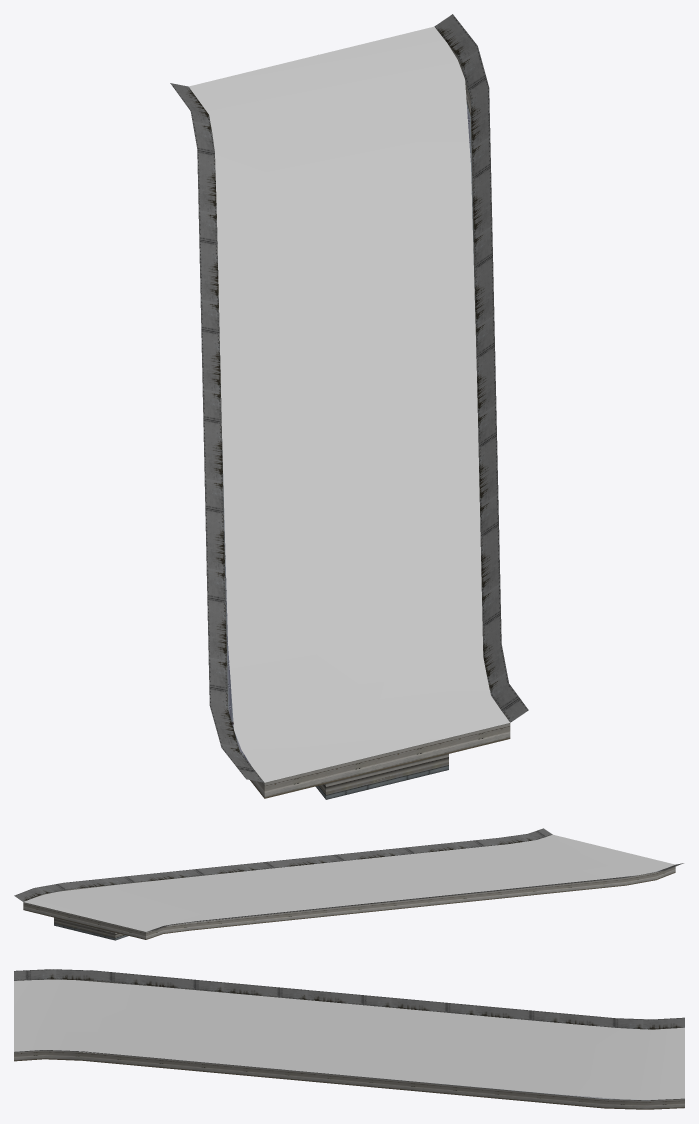
File: ShearSlopeA_R.fbx
3 views of the same model, one above another, from view 1: azimuth 30°, elevation 25°; view 2: azimuth 150°, elevation 25°; view 3: azimuth 270°, elevation 25° (orthographic). The views are drawn at different scales.
Parts seen in each view (by area): view 1: Empty_Mesh; view 2: Empty_Mesh; view 3: Empty_Mesh.
Part boxes in pixels (box(x1,y1,x2,y2)): Empty_Mesh: box(170, 14, 528, 799); Empty_Mesh: box(14, 828, 683, 940); Empty_Mesh: box(14, 969, 684, 1109).
Size of the model in its own units: 50.4 by 12.5 by 64.
